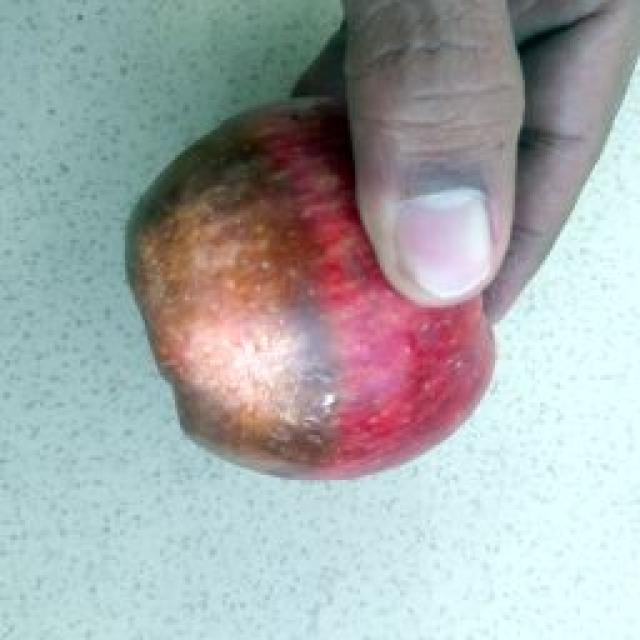Bad_Apple: (130, 100, 494, 478)
